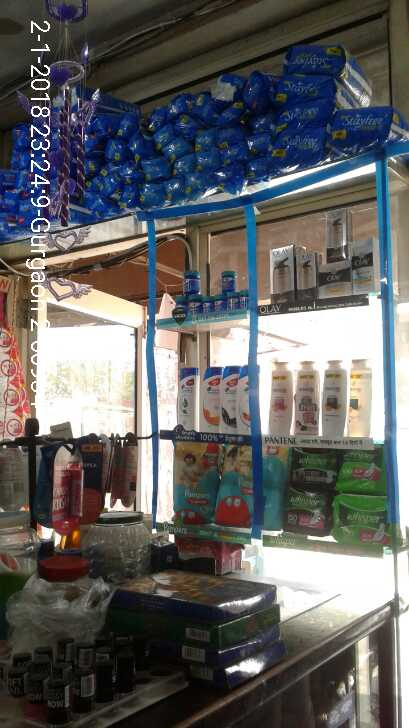vicks: (174, 266, 251, 317)
